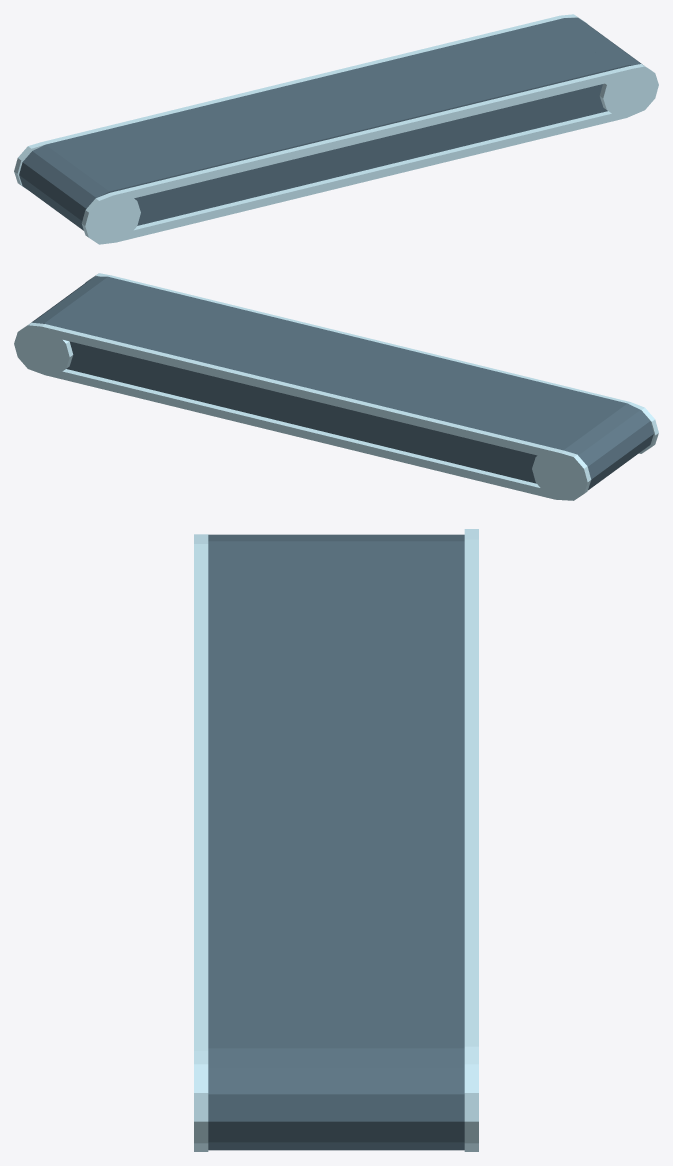
File: conveyor.glb
3 renders of one model, top to bottom at view 1: azimuth 30°, elevation 25°; view 2: azimuth 150°, elevation 25°; view 3: azimuth 270°, elevation 25°, orthographic. The views are drawn at different scales.
Parts seen in each view (by area): view 1: group1751849987, group1395806188, group1407714466; view 2: group1751849987, group1407714466, group1395806188; view 3: group1751849987, group1407714466, group1395806188.
Part boxes in pixels (x1=…): group1751849987: x1=19, y1=18, x2=642, y2=230; group1395806188: x1=81, y1=64, x2=658, y2=244; group1407714466: x1=14, y1=14, x2=587, y2=188; group1751849987: x1=31, y1=276, x2=653, y2=490; group1407714466: x1=14, y1=322, x2=591, y2=500; group1395806188: x1=85, y1=273, x2=658, y2=453; group1751849987: x1=208, y1=534, x2=464, y2=1150; group1407714466: x1=464, y1=529, x2=478, y2=1151; group1395806188: x1=194, y1=534, x2=208, y2=1151.
Size of the model in its own units: 9.42 by 0.7707 by 2.03.
